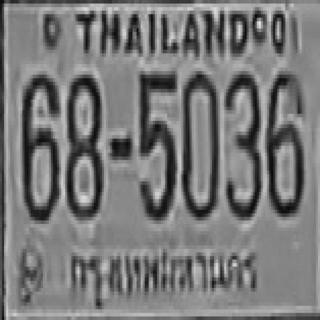N00: (181, 68, 218, 217)
N03: (224, 68, 259, 217)
N05: (137, 68, 175, 217)
N06: (20, 71, 57, 220), (265, 68, 302, 213)
N08: (65, 71, 102, 217)
P04: (64, 241, 260, 311)
